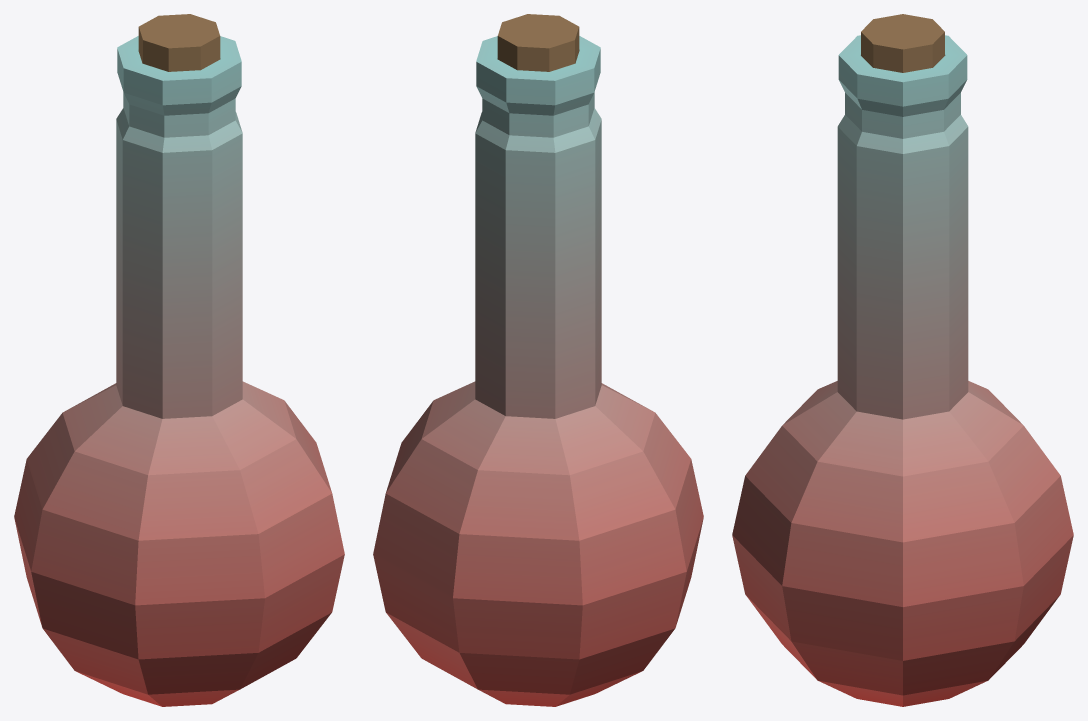
Rendered from Assets.fbx_FlaskRound.fbx.
3 views of the same model, side by side, from view 1: azimuth 30°, elevation 25°; view 2: azimuth 150°, elevation 25°; view 3: azimuth 270°, elevation 25° (orthographic).
Visible parts, largest first — view 1: FlaskRound; view 2: FlaskRound; view 3: FlaskRound.
Boxes of the visible parts, x1,y1,x2,y2 form: FlaskRound: (14, 14, 344, 706); FlaskRound: (373, 14, 703, 706); FlaskRound: (732, 14, 1073, 706).
Size of the model in its own units: 10 by 20.91 by 10.
